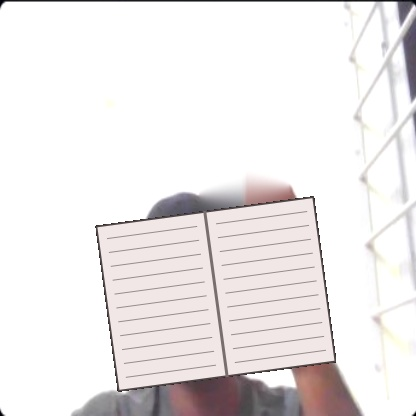book: (95, 196, 336, 392)
